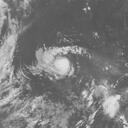cyclone: (33, 47, 75, 80)
